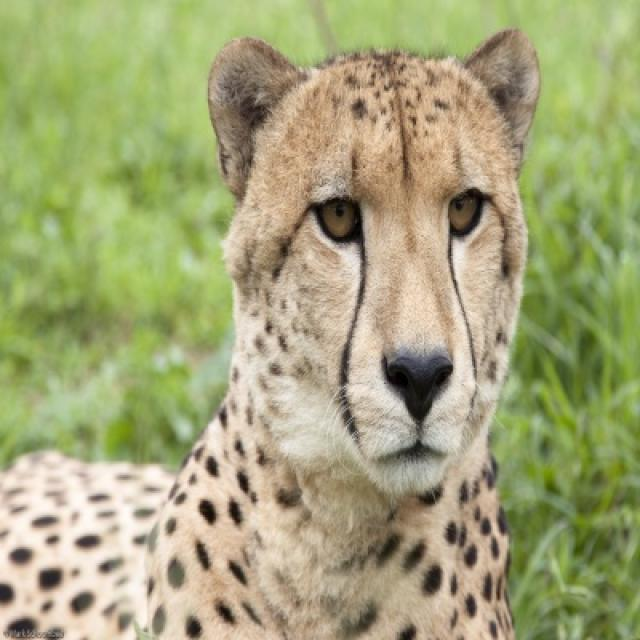Cheetah: (0, 29, 544, 638)
